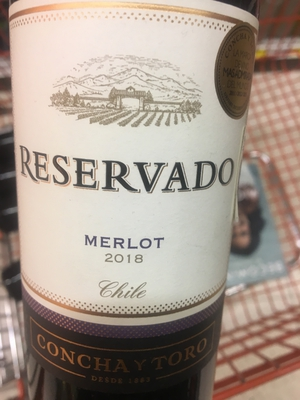reservado merlot: (10, 2, 255, 400)
